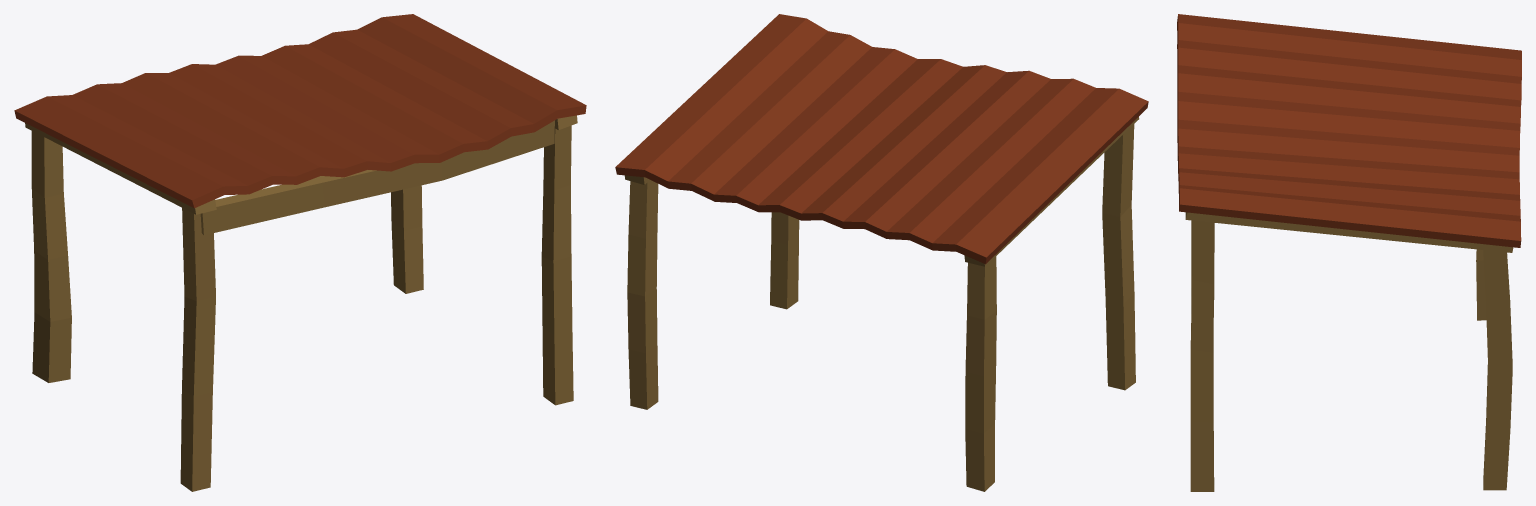
Rendered from log shelter.fbx.
3 views of the same model, side by side, from view 1: azimuth 30°, elevation 25°; view 2: azimuth 150°, elevation 25°; view 3: azimuth 270°, elevation 25° (orthographic). The views are drawn at different scales.
Visible parts, largest first — view 1: logshelter_LOD0; view 2: logshelter_LOD0; view 3: logshelter_LOD0.
Boxes of the visible parts, <box> form: logshelter_LOD0: <box>14,14,586,491</box>; logshelter_LOD0: <box>615,14,1148,491</box>; logshelter_LOD0: <box>1177,14,1521,491</box>.
Size of what is drawn, in the model's own units: 4.12 by 3.03 by 3.16.
